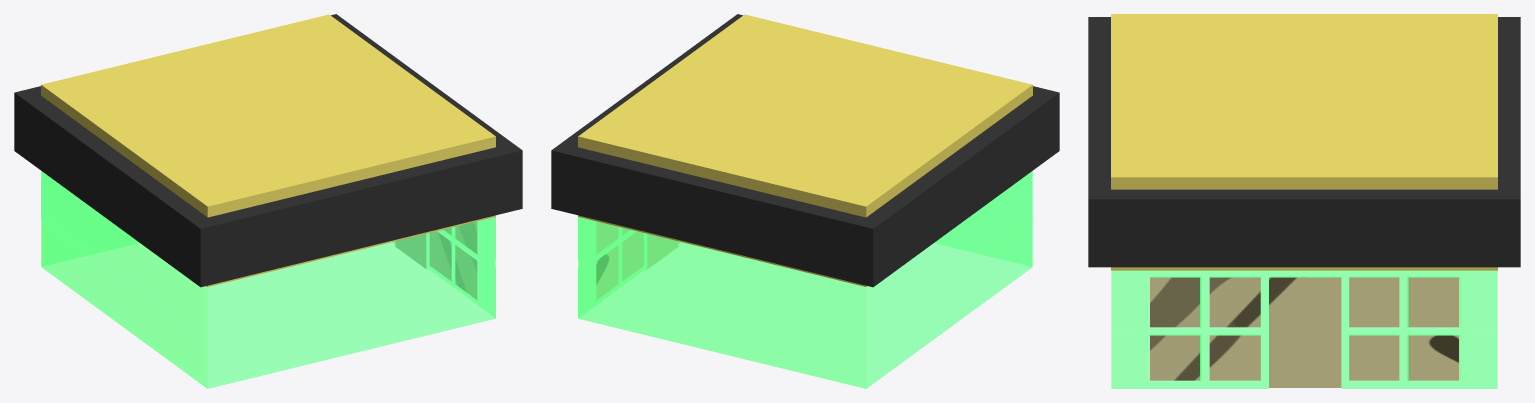
File: smallStore_Geo.fbx
3 renders of one model, left to right at view 1: azimuth 30°, elevation 25°; view 2: azimuth 150°, elevation 25°; view 3: azimuth 270°, elevation 25°, orthographic. The views are drawn at different scales.
Visible parts, largest first — view 1: digitalBar; view 2: digitalBar; view 3: digitalBar.
Boxes of the visible parts, x1,y1,x2,y2 form: digitalBar: [14, 14, 522, 388]; digitalBar: [551, 14, 1059, 388]; digitalBar: [1088, 14, 1520, 388].
Bounding box in the file's own units: 759 × 411 × 761.
